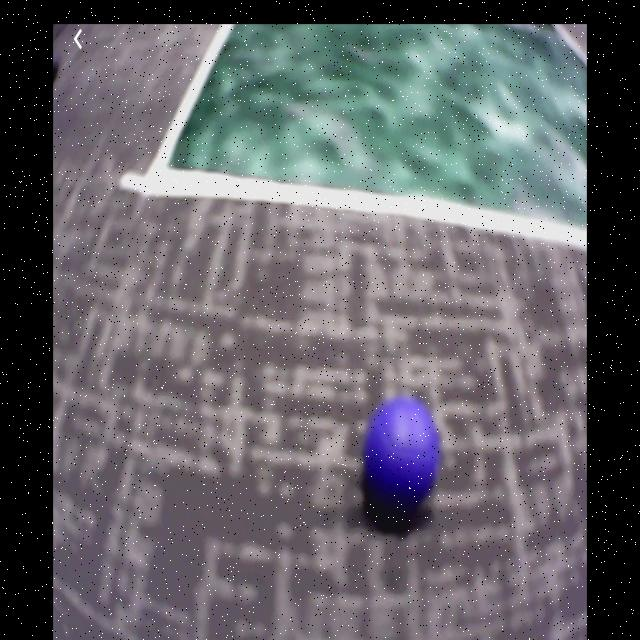ball: (366, 400, 439, 507)
